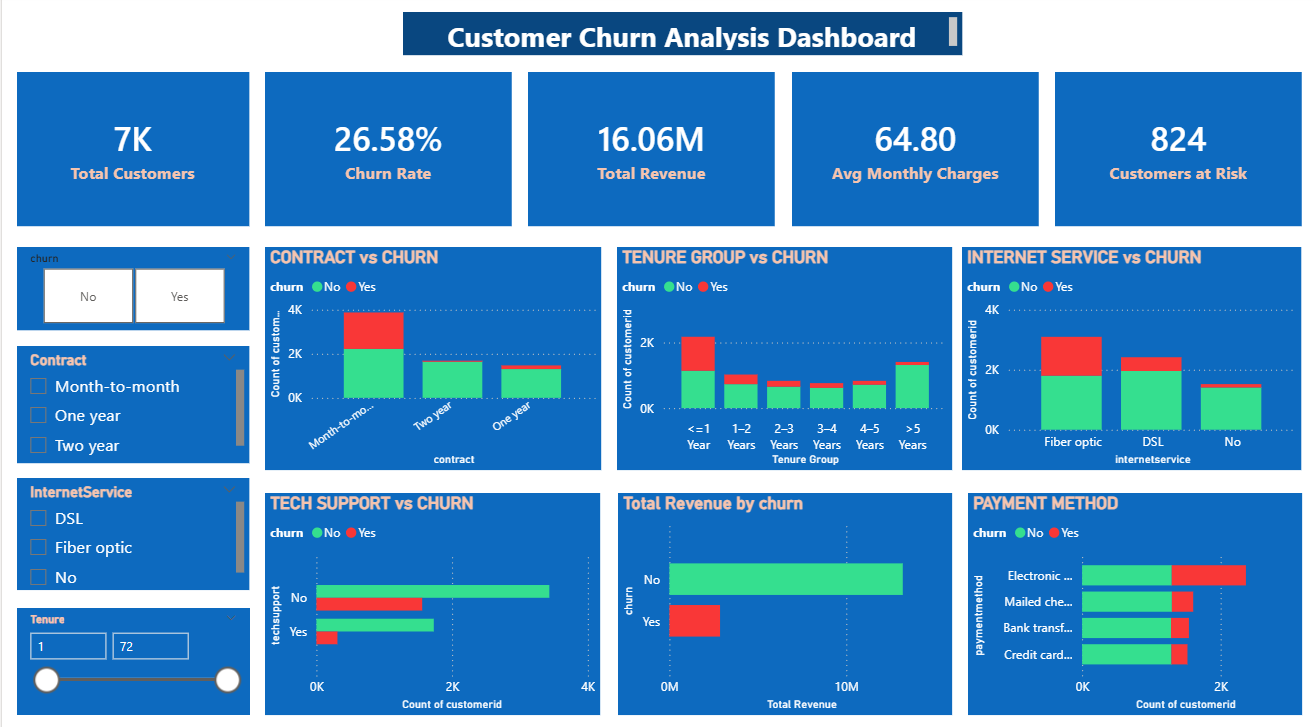

What the dashboard file says about the page in this screenshot:
{"tool":"powerbi","page":{"name":"Dashboard","canvas":[1280,720],"ordinal":0},"visuals":[{"type":"textbox","box":[390.4,16.1,543.6,42.1],"z":0},{"type":"cardVisual","fields":{"Data":["public churn_data.Total Customers"]},"box":[14.3,75.2,225.7,149.6],"z":1000},{"type":"cardVisual","fields":{"Data":["public churn_data.Customers at Risk"]},"box":[1024.5,75.2,240,149.6],"z":2000},{"type":"cardVisual","fields":{"Data":["public churn_data.Avg Monthly Charges"]},"box":[768.4,75.2,240,149.6],"z":3000},{"type":"cardVisual","fields":{"Data":["public churn_data.Total Revenue"]},"box":[511.3,75.2,240,149.6],"z":4000},{"type":"cardVisual","fields":{"Data":["public churn_data.Churn Rate"]},"box":[256.1,75.2,240,149.6],"z":5000},{"type":"columnChart","title":"CONTRACT vs CHURN","fields":{"Series":["public churn_data.churn"],"Category":["public churn_data.contract"],"Y":["CountNonNull(public churn_data.customerid)"]},"box":[256.1,245.4,326.9,216.7],"z":5001},{"type":"columnChart","title":"TENURE GROUP vs CHURN","fields":{"Series":["public churn_data.churn"],"Category":["public churn_data.Tenure Group"],"Y":["CountNonNull(public churn_data.customerid)"]},"box":[598.2,245.4,326,216.7],"z":5003},{"type":"clusteredBarChart","title":"TECH SUPPORT vs CHURN","fields":{"Category":["public churn_data.techsupport"],"Series":["public churn_data.churn"],"Y":["CountNonNull(public churn_data.customerid)"]},"box":[256.1,484.5,326,216],"z":5004},{"type":"columnChart","title":"INTERNET SERVICE vs CHURN","fields":{"Series":["public churn_data.churn"],"Category":["public churn_data.internetservice"],"Y":["CountNonNull(public churn_data.customerid)"]},"box":[934,245.4,330.4,216.7],"z":5005},{"type":"clusteredBarChart","fields":{"Y":["public churn_data.Total Revenue"],"Category":["public churn_data.churn"]},"box":[599.1,484.5,325.1,215.8],"z":5006},{"type":"barChart","title":"PAYMENT METHOD","fields":{"Category":["public churn_data.paymentmethod"],"Y":["CountNonNull(public churn_data.customerid)"],"Series":["public churn_data.churn"]},"box":[939.4,484.5,325.1,215.8],"z":5007},{"type":"slicer","title":"Churn","fields":{"Values":["public churn_data.churn"]},"box":[14.3,245.4,225.7,81.5],"z":5008},{"type":"slicer","fields":{"Values":["public churn_data.contract"]},"box":[14.3,341.2,225.7,113.7],"z":5009},{"type":"slicer","fields":{"Values":["public churn_data.internetservice"]},"box":[14.3,470.1,225.7,109.3],"z":5010},{"type":"slicer","fields":{"Values":["public churn_data.tenure"]},"box":[14.3,596.4,225.7,103.9],"z":5011}]}

Visuals, with their boxes in screenshot pixels (x1, y1, x2, y2), scaled from the page's 1280x720 canvas onto the 1314x727 screenshot:
textbox: x1=401 y1=16 x2=959 y2=59
cardVisual - public churn_data.Total Customers: x1=15 y1=76 x2=246 y2=227
cardVisual - public churn_data.Customers at Risk: x1=1052 y1=76 x2=1298 y2=227
cardVisual - public churn_data.Avg Monthly Charges: x1=789 y1=76 x2=1035 y2=227
cardVisual - public churn_data.Total Revenue: x1=525 y1=76 x2=771 y2=227
cardVisual - public churn_data.Churn Rate: x1=263 y1=76 x2=509 y2=227
"CONTRACT vs CHURN" columnChart: x1=263 y1=248 x2=598 y2=467
"TENURE GROUP vs CHURN" columnChart: x1=614 y1=248 x2=949 y2=467
"TECH SUPPORT vs CHURN" clusteredBarChart: x1=263 y1=489 x2=598 y2=707
"INTERNET SERVICE vs CHURN" columnChart: x1=959 y1=248 x2=1298 y2=467
clusteredBarChart - public churn_data.Total Revenue x public churn_data.churn: x1=615 y1=489 x2=949 y2=707
"PAYMENT METHOD" barChart: x1=964 y1=489 x2=1298 y2=707
"Churn" slicer: x1=15 y1=248 x2=246 y2=330
slicer - public churn_data.contract: x1=15 y1=345 x2=246 y2=459
slicer - public churn_data.internetservice: x1=15 y1=475 x2=246 y2=585
slicer - public churn_data.tenure: x1=15 y1=602 x2=246 y2=707
